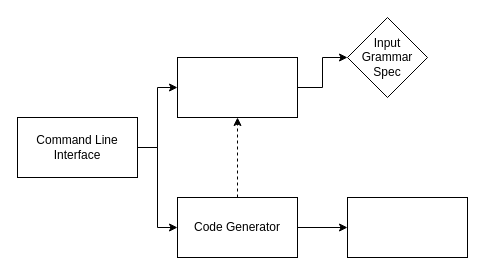
The diagram is 485 pixels wide and 275 high, and some of its shapes have lost their labels. The centre of each missing label's shape, as x and y in pixels:
Input Parser: the point at 237,87
Template: the point at 407,227
